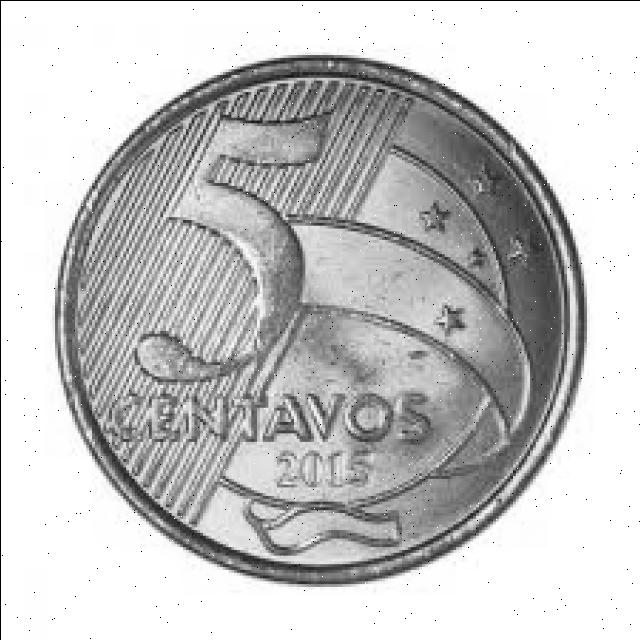5 cent: (56, 54, 586, 586)
